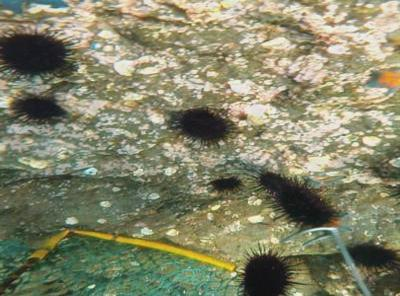urchin: (260, 170, 340, 227), (0, 29, 72, 77), (240, 244, 295, 296), (176, 105, 234, 145), (9, 91, 66, 127), (348, 240, 400, 268), (210, 174, 243, 194)
